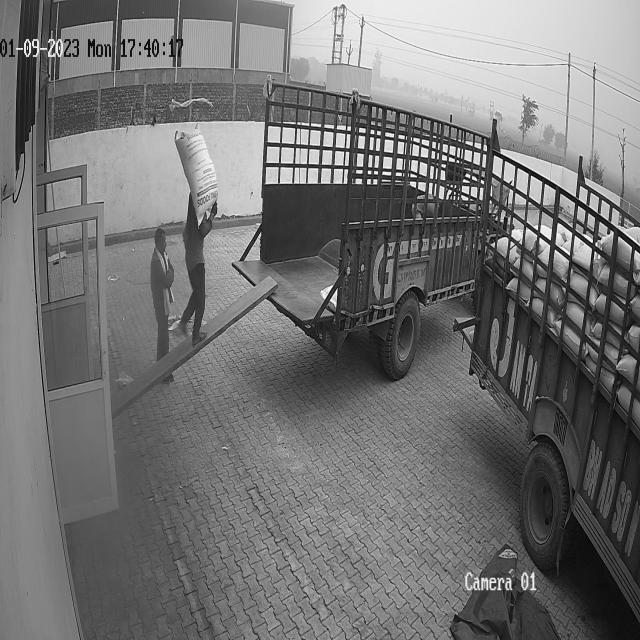sack: (175, 121, 217, 226)
